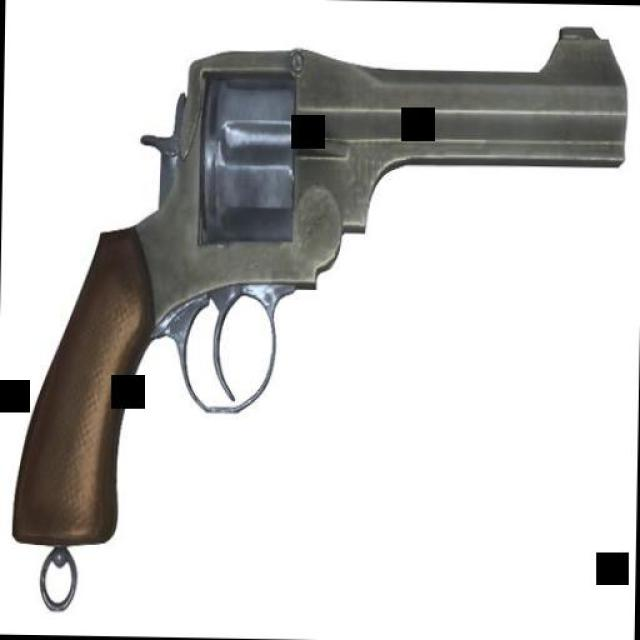gun: (22, 11, 622, 589)
